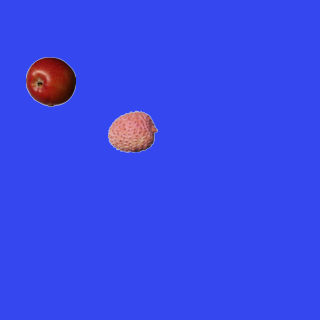Apple Braeburn: (25, 56, 75, 106)
Lychee: (107, 106, 157, 156)
